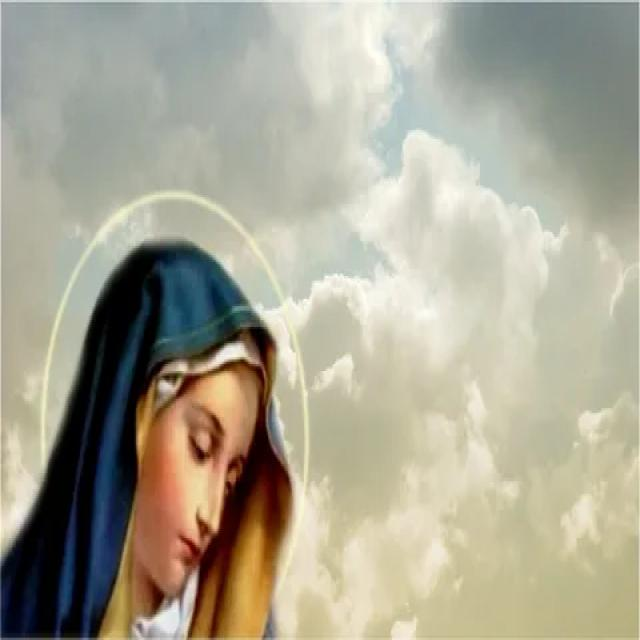mother of god: (0, 224, 310, 640)
